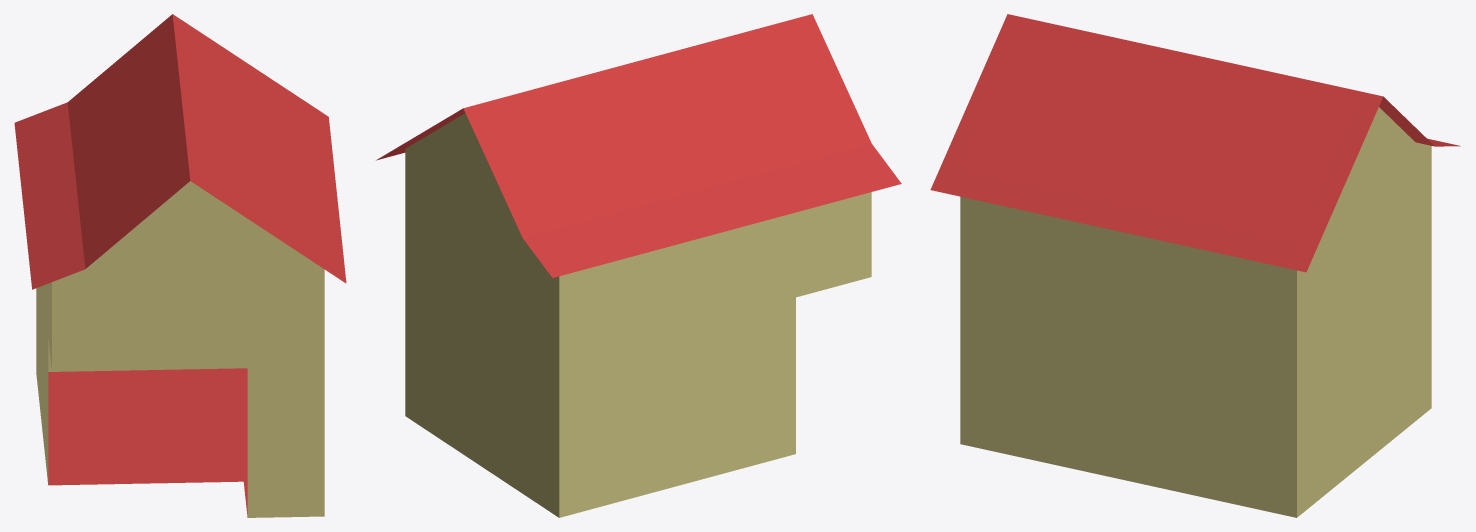
3 renders of one model, left to right at view 1: azimuth 30°, elevation 25°; view 2: azimuth 150°, elevation 25°; view 3: azimuth 270°, elevation 25°, orthographic. The views are drawn at different scales.
Size of the model in its own units: 16.62 by 17.86 by 13.78.
